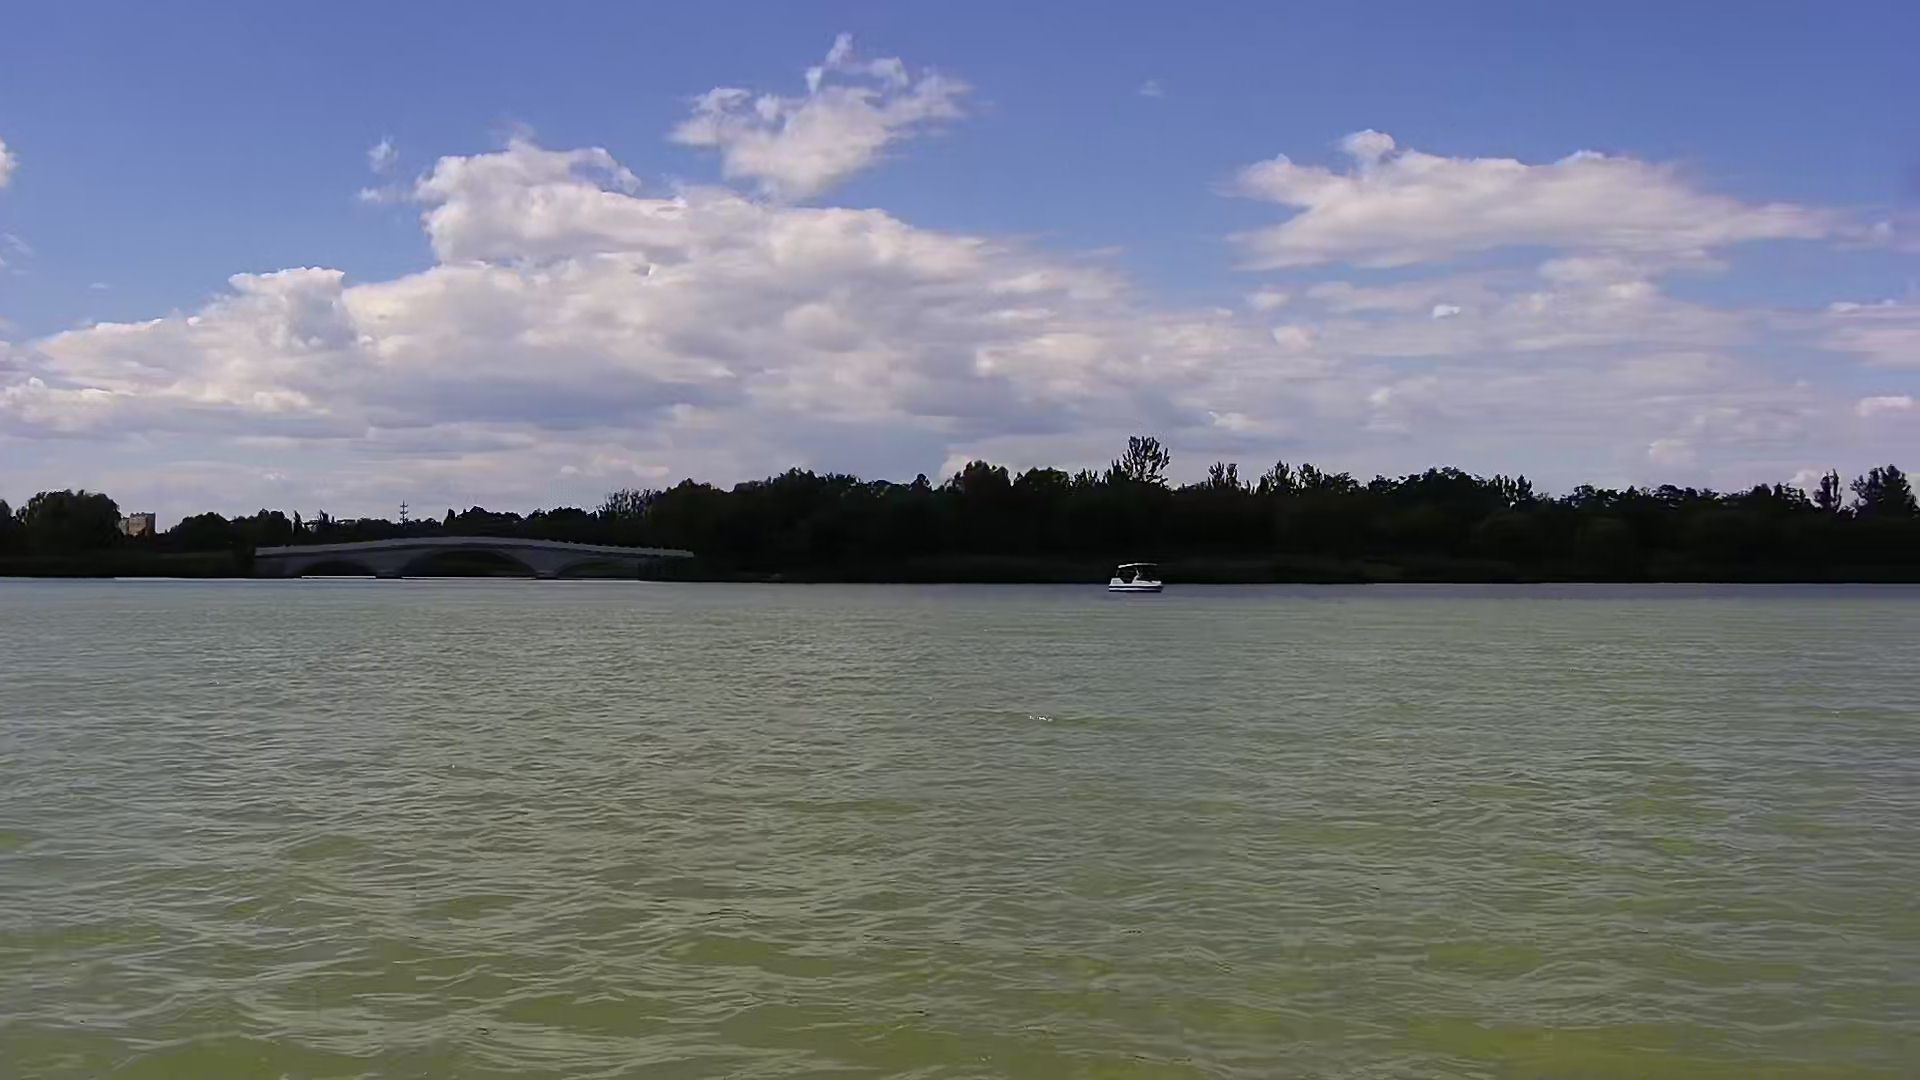boat: (1106, 554, 1164, 603)
bridge: (247, 531, 700, 588)
